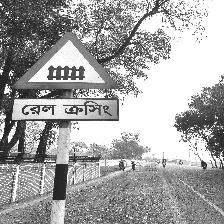Rail-crossing: (11, 32, 122, 124)
